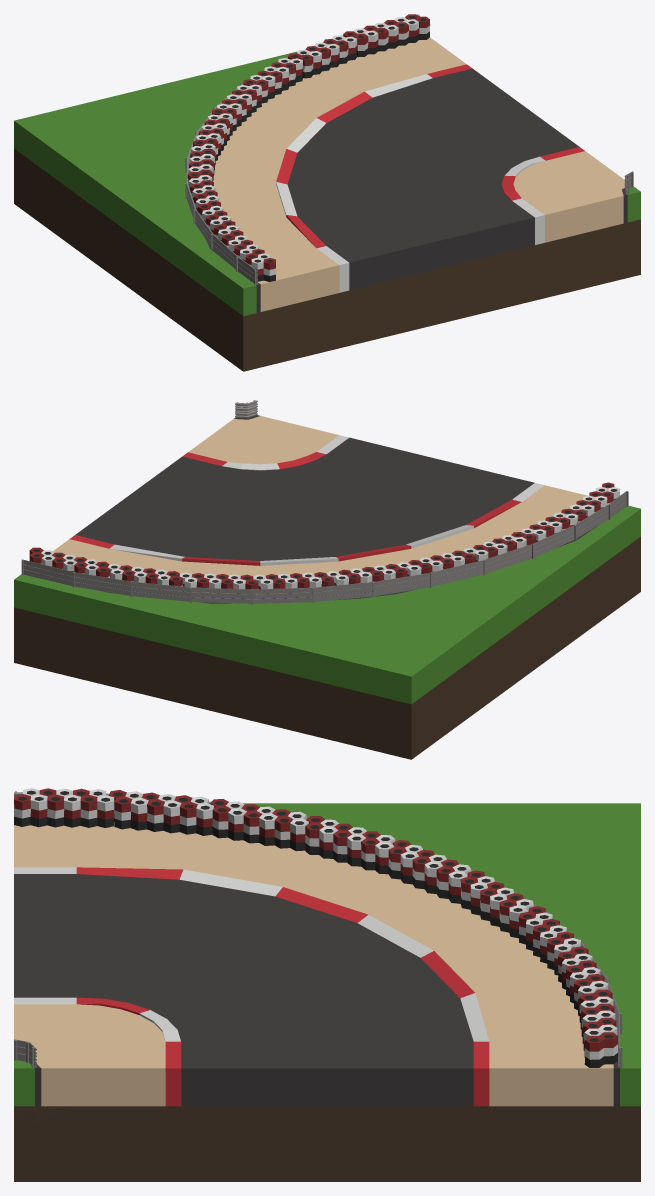
Rendered from tile-race-track-sand-curve.glb.
3 views of the same model, one above another, from view 1: azimuth 30°, elevation 25°; view 2: azimuth 150°, elevation 25°; view 3: azimuth 270°, elevation 25° (orthographic). The views are drawn at different scales.
Parts seen in each view (by area): view 1: tile-race-track-sand-curve; view 2: tile-race-track-sand-curve; view 3: tile-race-track-sand-curve.
Boxes of the visible parts, <box> form: tile-race-track-sand-curve: <box>14,14,640,371</box>; tile-race-track-sand-curve: <box>14,400,640,759</box>; tile-race-track-sand-curve: <box>14,788,640,1181</box>.
Size of the model in its own units: 30.01 by 7.32 by 30.
1 material, 1 textured.
